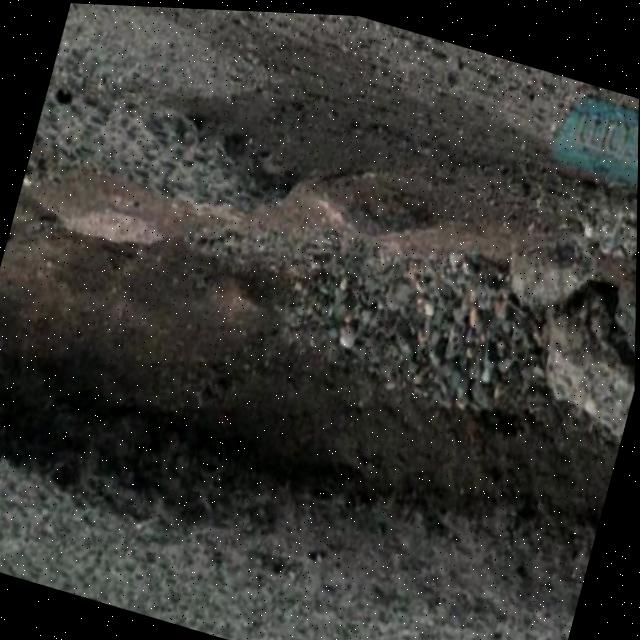Pothole: (0, 60, 639, 640)
